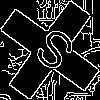S: (25, 25, 79, 82)
